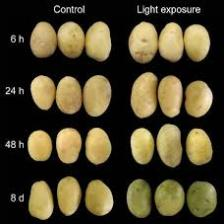Defected potato: (122, 178, 156, 218), (152, 178, 184, 218), (184, 180, 216, 217), (184, 129, 212, 166)
Potato: (155, 122, 186, 170), (155, 73, 185, 120), (183, 77, 214, 122), (82, 73, 114, 116), (126, 20, 157, 64), (84, 18, 113, 64), (183, 22, 214, 64), (55, 73, 84, 115), (130, 72, 157, 117), (57, 20, 85, 60), (56, 173, 82, 216), (84, 178, 113, 216), (160, 23, 185, 67), (54, 127, 83, 164), (130, 126, 156, 166), (30, 22, 57, 59), (85, 128, 112, 165), (24, 129, 54, 162), (29, 177, 54, 215), (31, 74, 56, 110)
